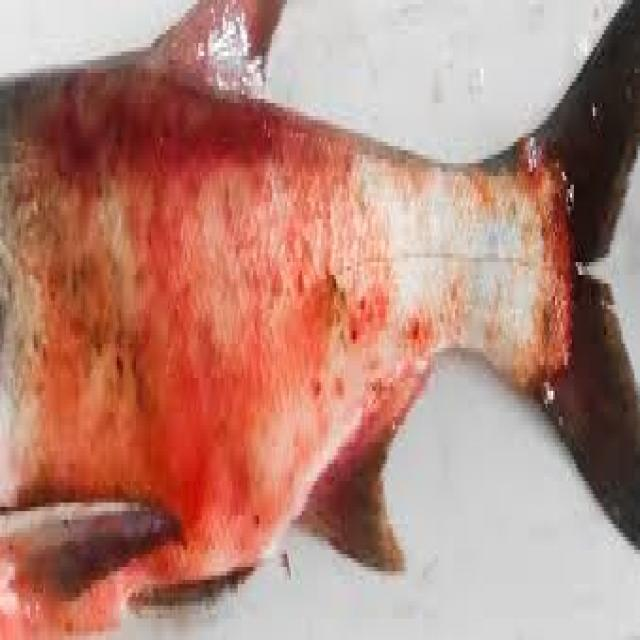EUS Disease: (3, 3, 640, 636), (41, 89, 342, 564), (349, 148, 597, 382)
